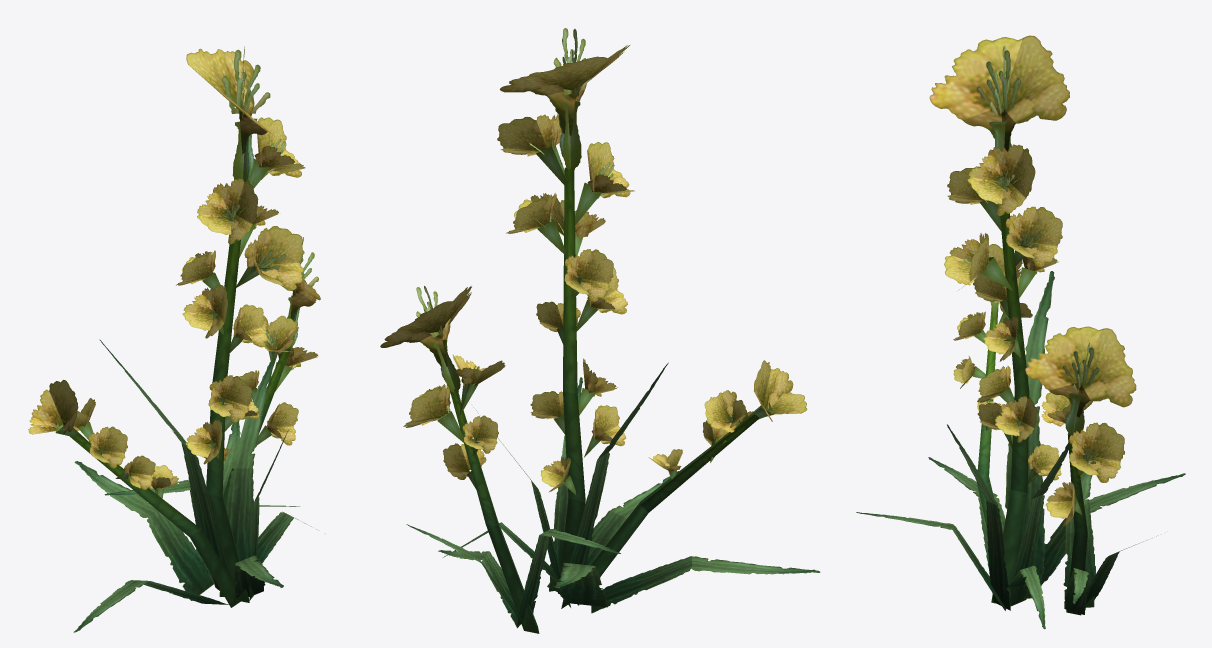
The model's file is wm_灌木花01.fbx.
3 views of the same model, side by side, from view 1: azimuth 30°, elevation 25°; view 2: azimuth 150°, elevation 25°; view 3: azimuth 270°, elevation 25° (orthographic). The views are drawn at different scales.
Visible parts, largest first — view 1: wm_灌木花01; view 2: wm_灌木花01; view 3: wm_灌木花01.
Boxes of the visible parts, box(x1,y1,x2,y2) form: wm_灌木花01: box(28, 46, 320, 632); wm_灌木花01: box(380, 28, 820, 633); wm_灌木花01: box(856, 35, 1185, 629).
Bounding box in the file's own units: 130 × 186 × 102.
